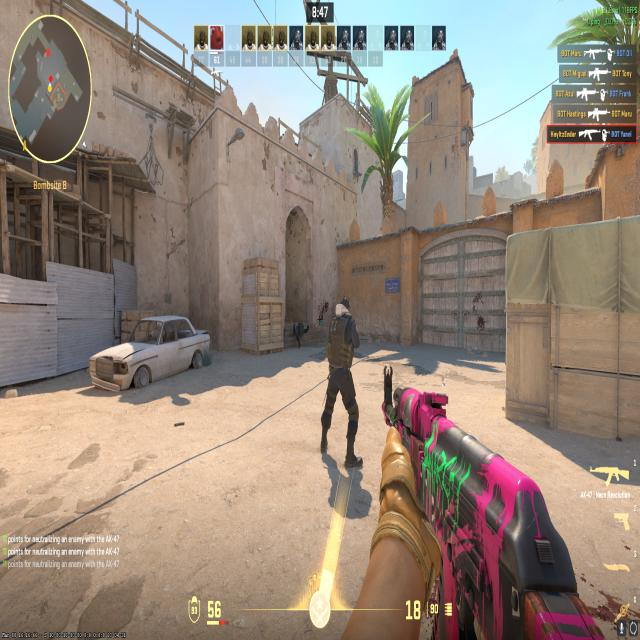ct: (319, 297, 365, 469)
